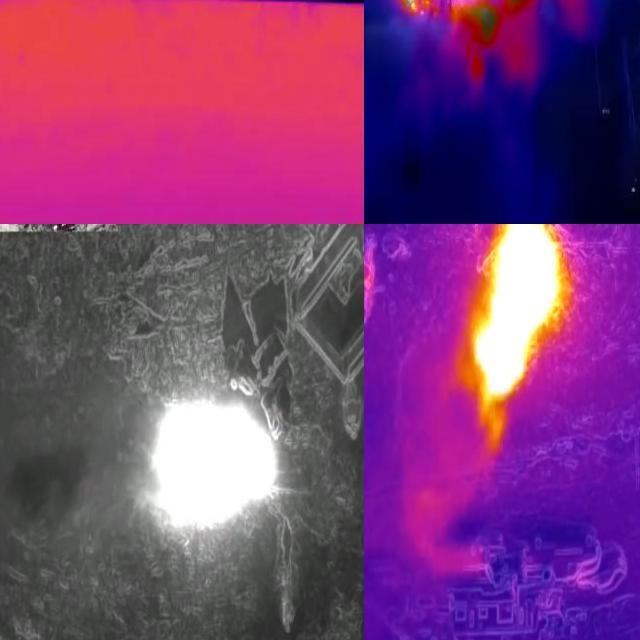fire: (148, 396, 281, 539), (470, 225, 564, 422)
